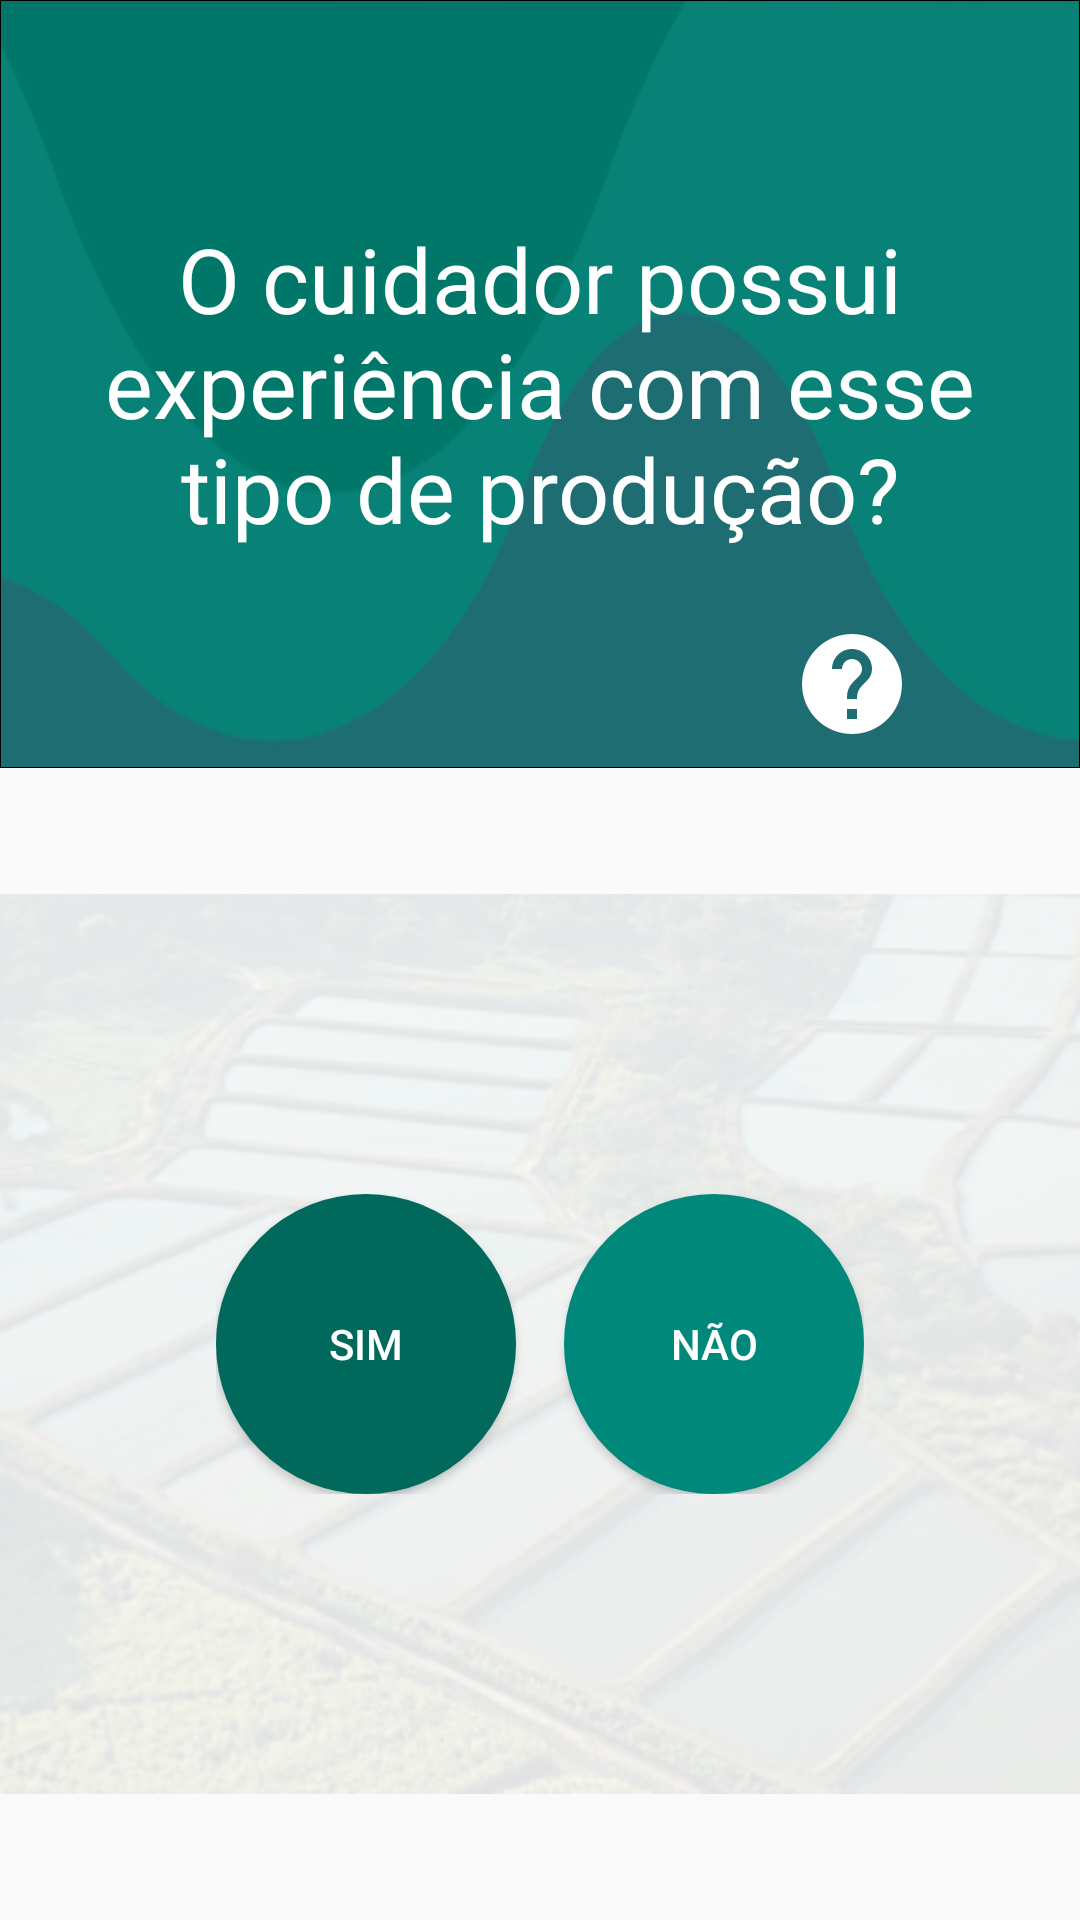

Where icons sit on this 1080w x 1920h app screen, as (x1, y1, x2, y2):
help: (802, 634, 902, 734)
